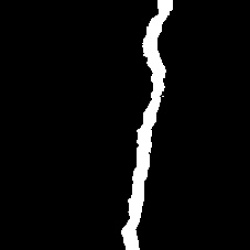crack: (121, 2, 175, 249)
